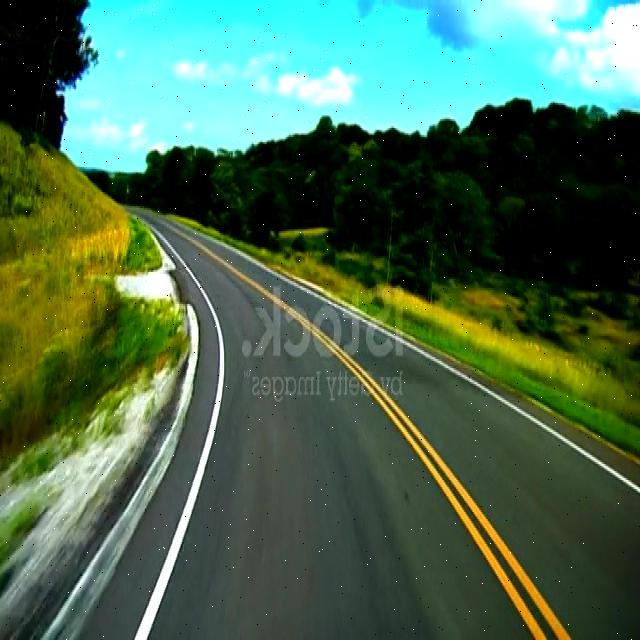lane: (190, 237, 572, 639), (135, 233, 225, 639), (408, 343, 640, 494)
road: (76, 216, 638, 638)
